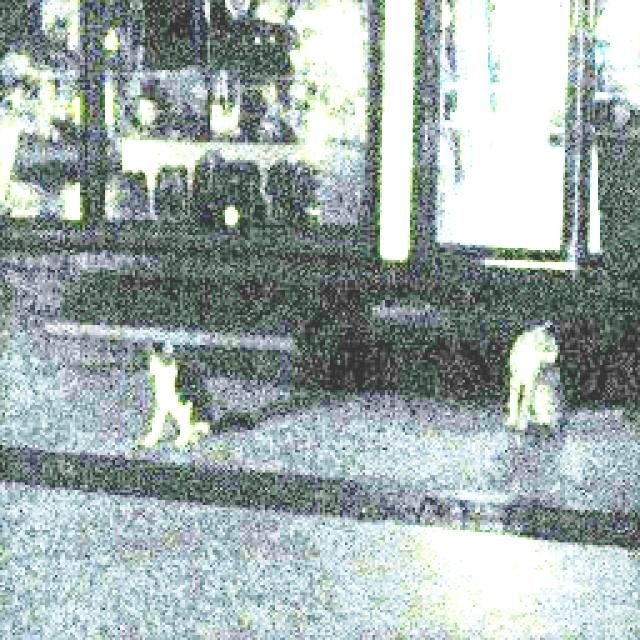cat: (499, 320, 627, 436), (136, 340, 216, 445)
